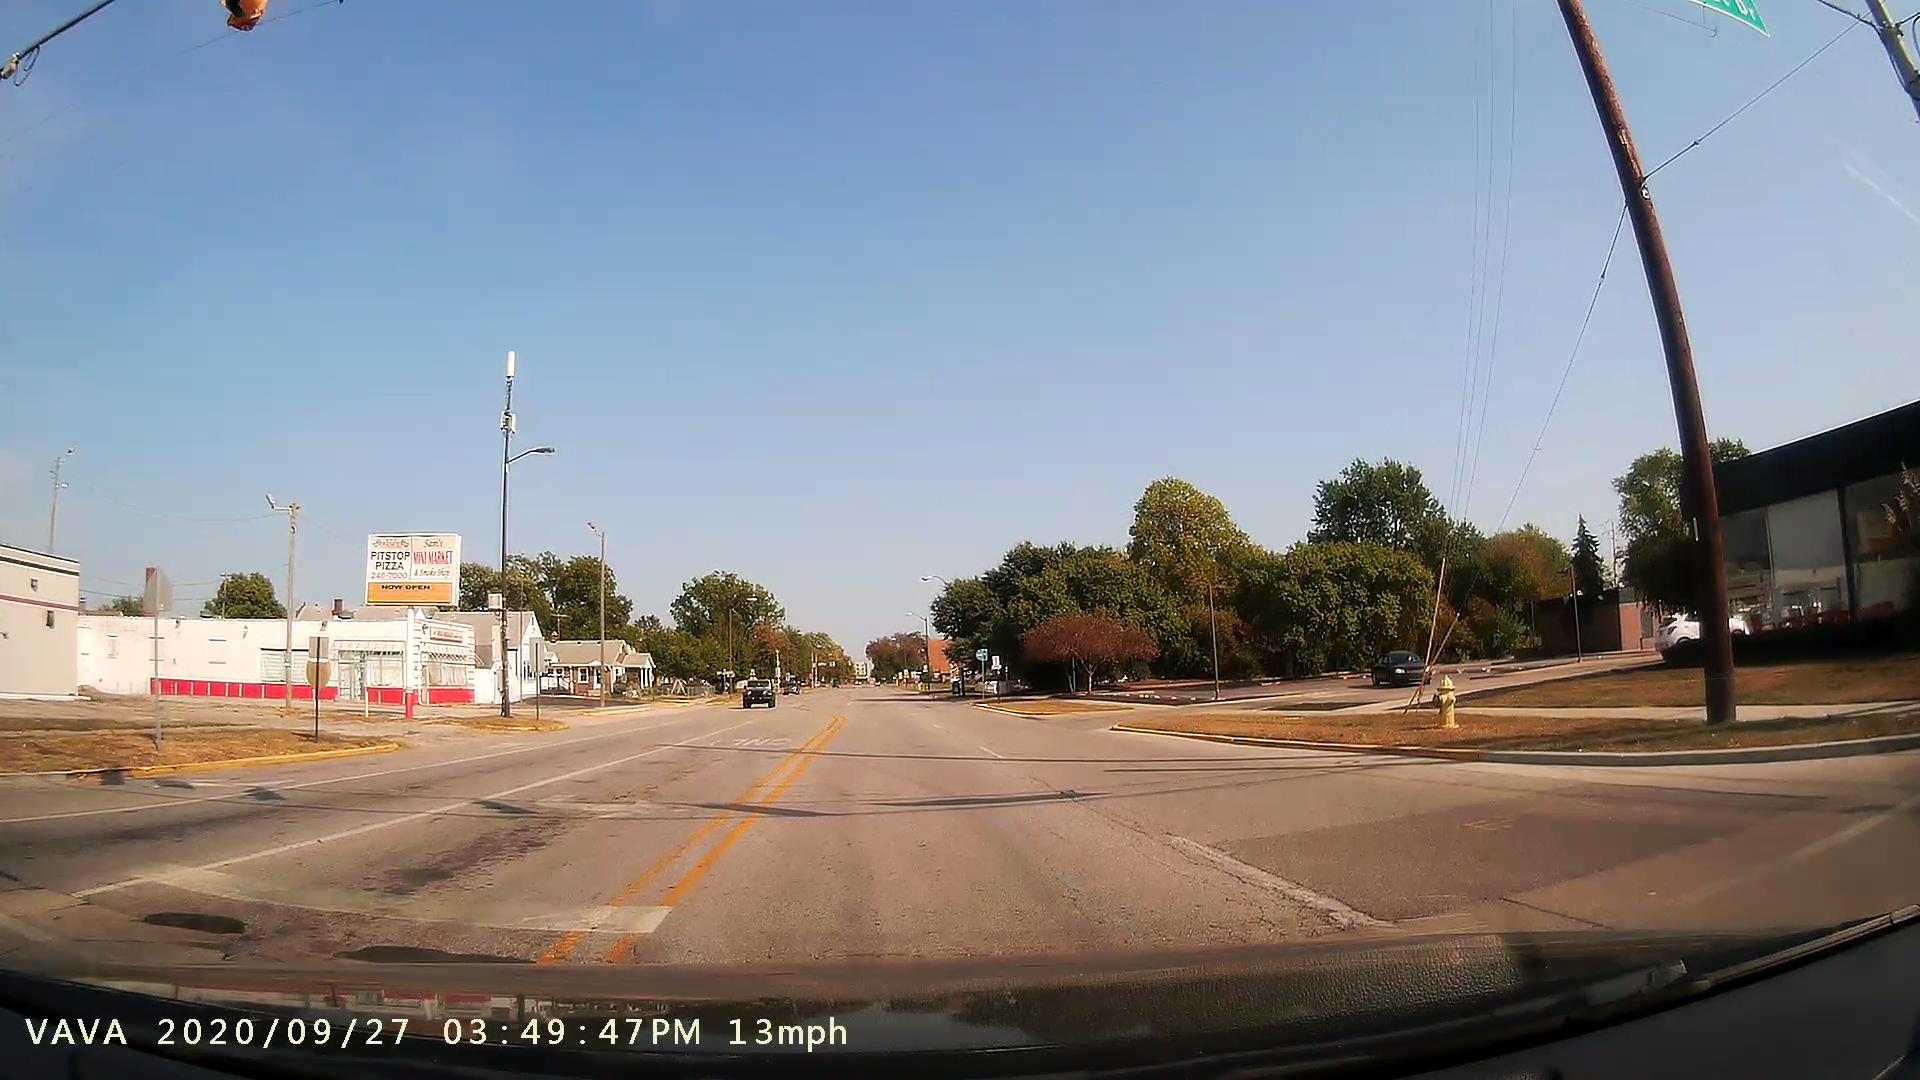fire_hydrant: (1418, 659, 1476, 735)
